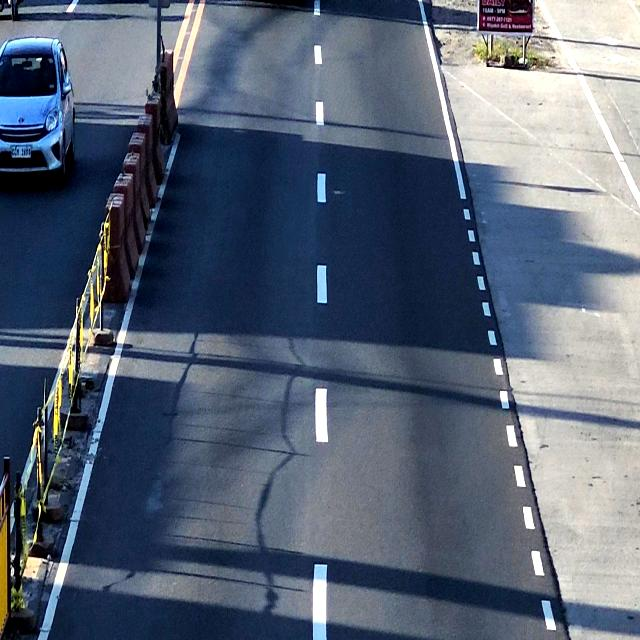License-Plate: (10, 143, 32, 162)
